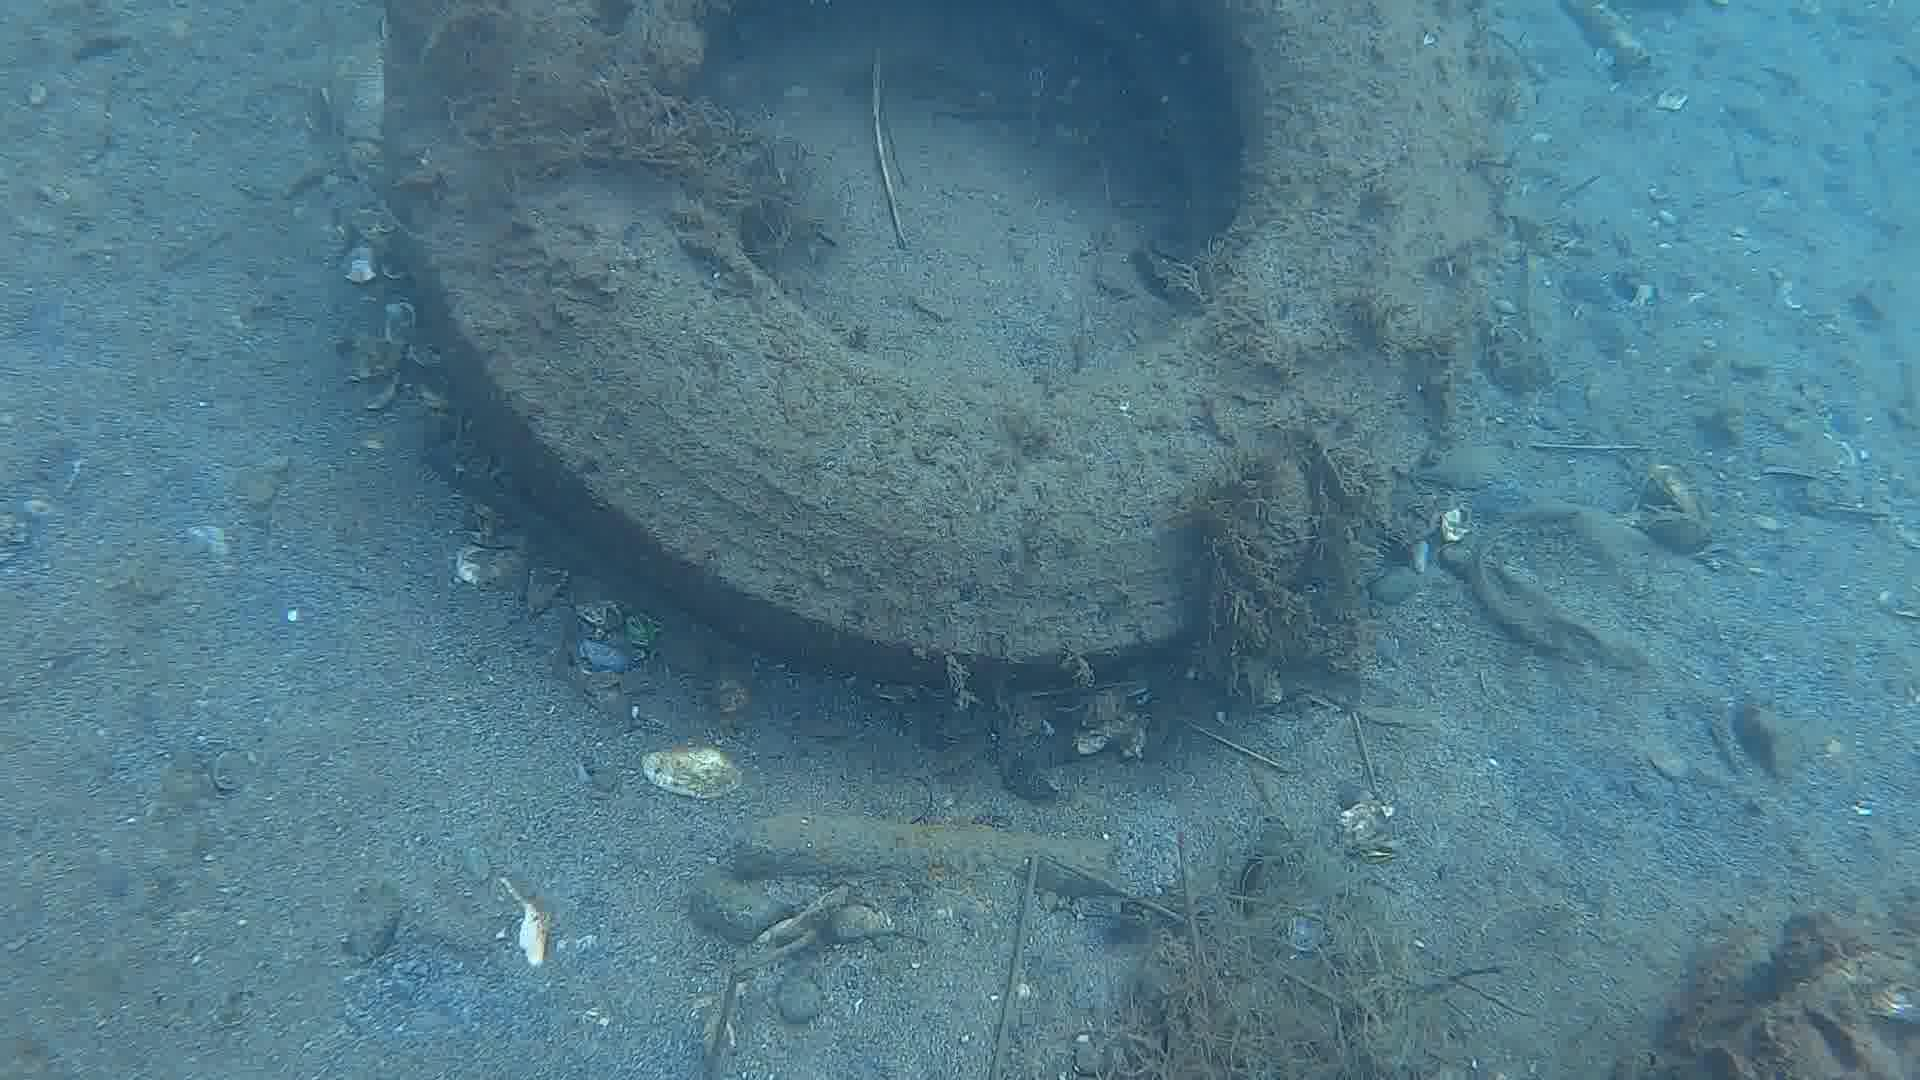tire: (382, 0, 1491, 696)
